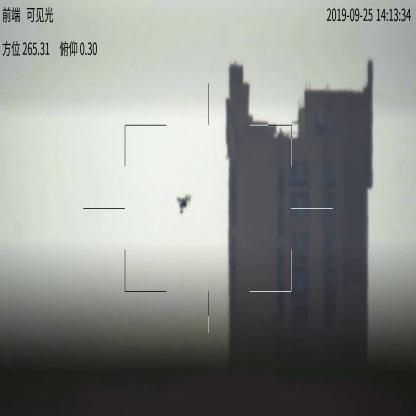uav: (174, 193, 190, 214)
